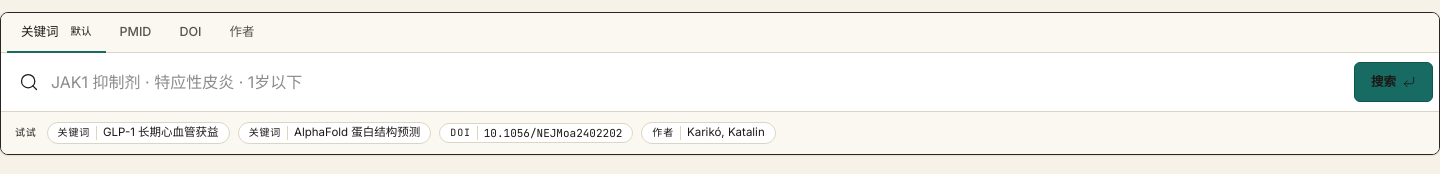
Test case: Composer › 切换到 PMID tab 后 input placeholder 变为 PMID 示例
What coordinates should you click on to do the following:
click the tab "PMID"
I would click on:
 (135, 33)
Its box is left=106, top=13, right=165, bottom=53.
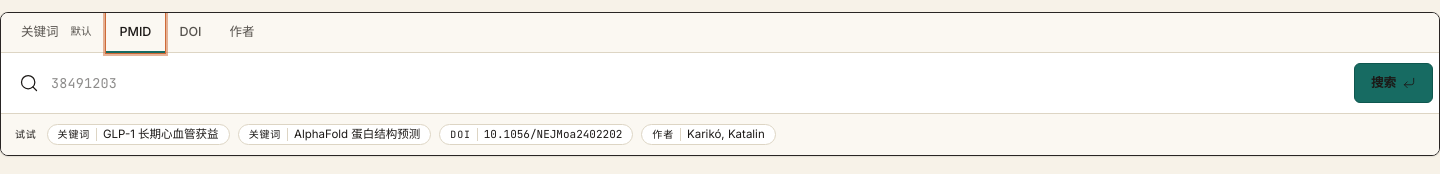
Result: the field with placeholder "38491203" is shown at left=51, top=59, right=1342, bottom=107
